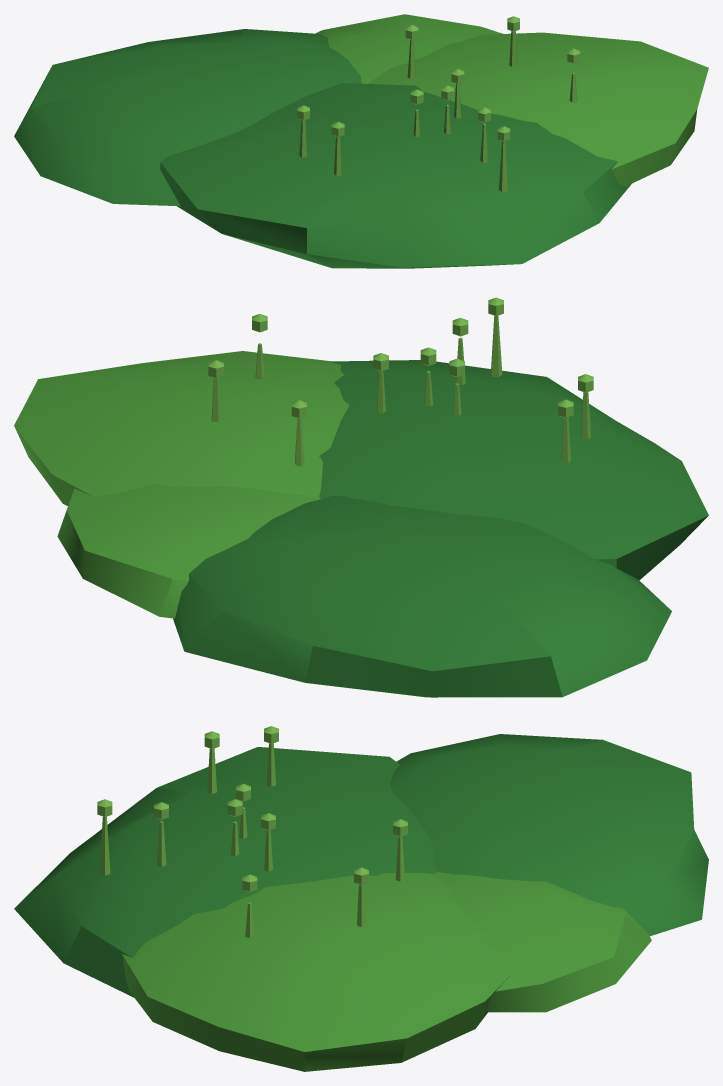
The model's file is moos_1.obj.
3 renders of one model, top to bottom at view 1: azimuth 30°, elevation 25°; view 2: azimuth 150°, elevation 25°; view 3: azimuth 270°, elevation 25°, orthographic. The views are drawn at different scales.
Parts seen in each view (by area): view 1: moos_1_Koerper; view 2: moos_1_Koerper; view 3: moos_1_Koerper.
Boxes of the visible parts, x1,y1,x2,y2 form: moos_1_Koerper: (14, 14, 708, 268); moos_1_Koerper: (14, 297, 708, 697); moos_1_Koerper: (14, 726, 708, 1071).
Size of the model in its own units: 1.97 by 0.4544 by 1.74.
